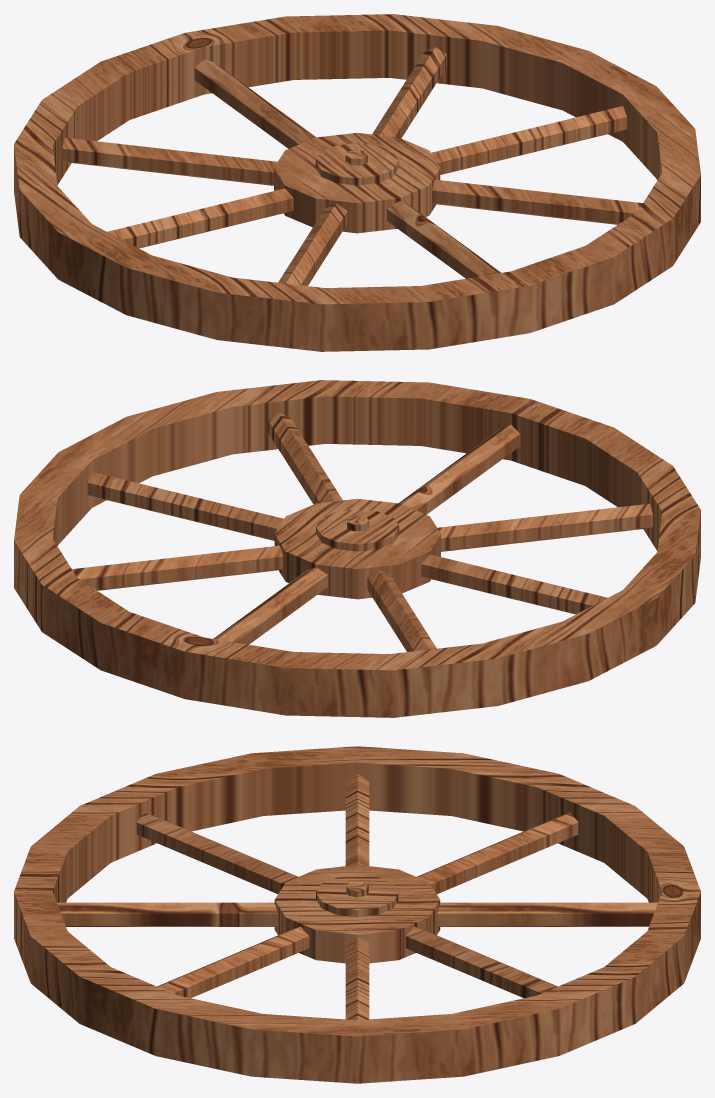
Rendered from koleso2.fbx.
3 views of the same model, one above another, from view 1: azimuth 30°, elevation 25°; view 2: azimuth 150°, elevation 25°; view 3: azimuth 270°, elevation 25° (orthographic).
Visible parts, largest first — view 1: koleso; view 2: koleso; view 3: koleso.
Part boxes in pixels (x1,y1,x2,y2): koleso: [14, 14, 700, 351]; koleso: [14, 380, 700, 717]; koleso: [14, 746, 700, 1083].
Bounding box in the file's own units: 372 × 34.19 × 372.
Materials: 1 (1 with a texture image).
